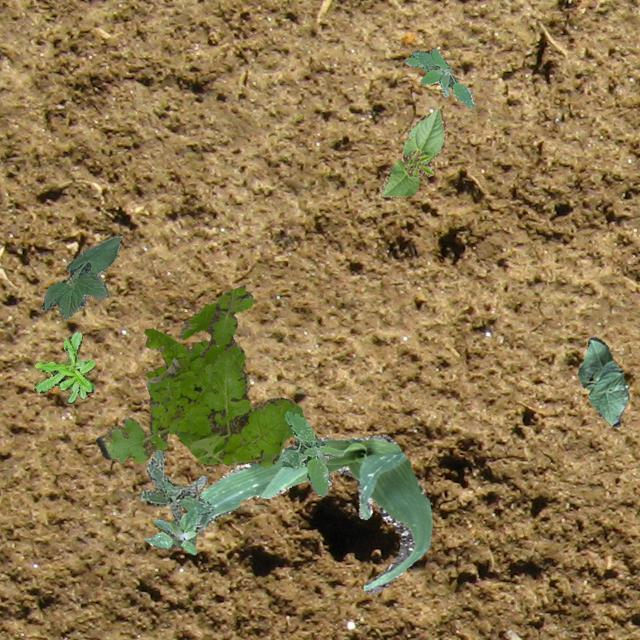crop: (194, 433, 432, 592), (42, 235, 120, 318), (378, 108, 444, 196), (576, 336, 628, 426)
weed: (95, 284, 302, 466), (140, 448, 212, 544), (144, 328, 248, 388), (280, 410, 342, 496), (32, 330, 94, 402), (404, 48, 474, 106), (142, 506, 196, 554)
